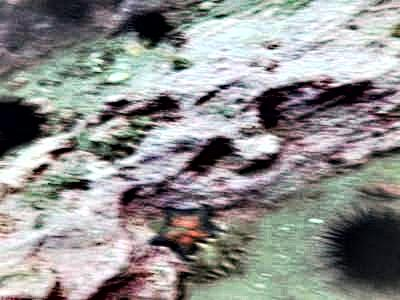urchin: (317, 198, 393, 285), (3, 92, 49, 161), (125, 8, 173, 38)
